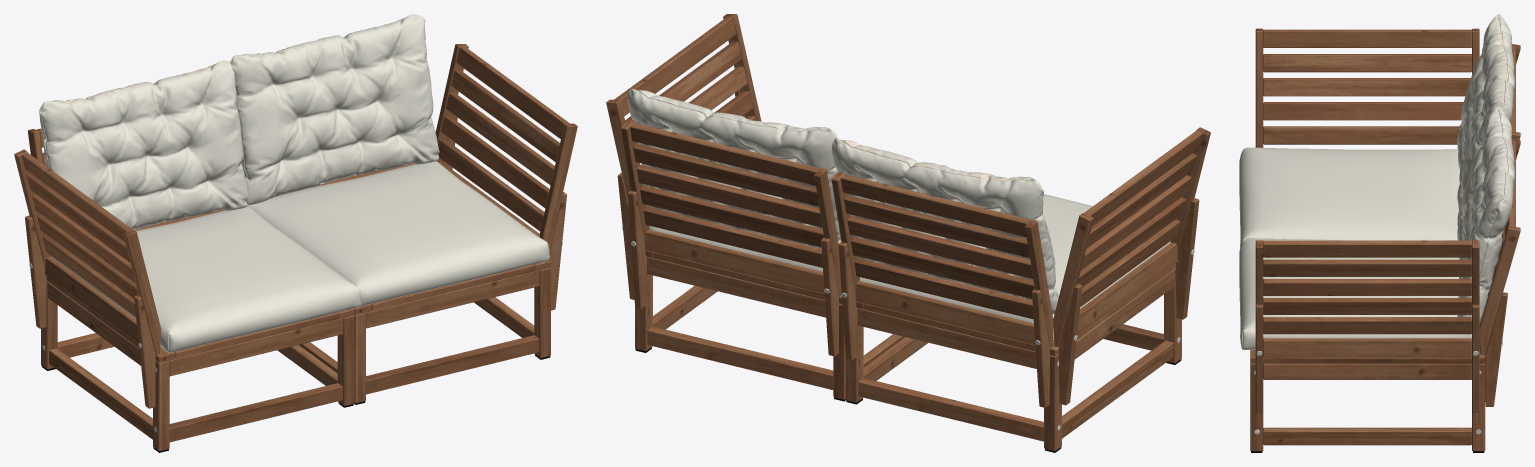
3 views of the same model, side by side, from view 1: azimuth 30°, elevation 25°; view 2: azimuth 150°, elevation 25°; view 3: azimuth 270°, elevation 25° (orthographic). The views are drawn at different scales.
Parts seen in each view (by area): view 1: 59575425_2_seat_modular_sofa_outdoor; view 2: 59575425_2_seat_modular_sofa_outdoor; view 3: 59575425_2_seat_modular_sofa_outdoor.
Boxes of the visible parts, bbox=[...] form: 59575425_2_seat_modular_sofa_outdoor: bbox=[14, 14, 577, 452]; 59575425_2_seat_modular_sofa_outdoor: bbox=[606, 14, 1210, 452]; 59575425_2_seat_modular_sofa_outdoor: bbox=[1239, 14, 1520, 452].
Bounding box in the file's own units: 1.47 × 0.7996 × 0.8.
Materials: 1 (1 with a texture image).
